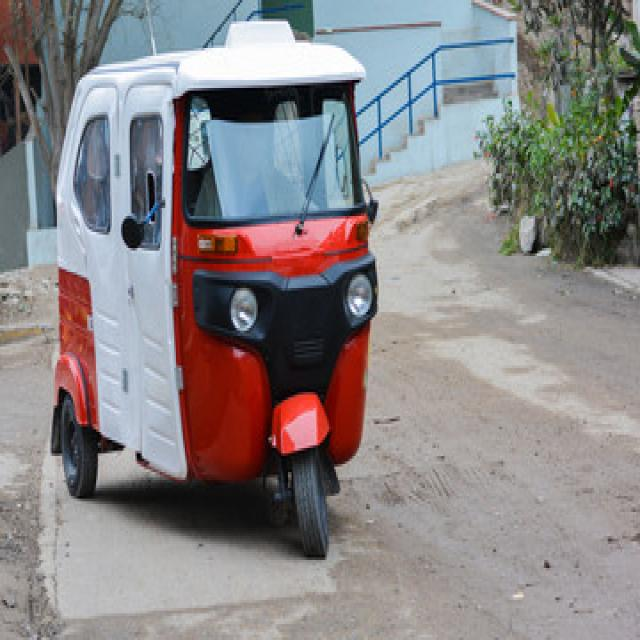three wheeler: (52, 21, 375, 555)
